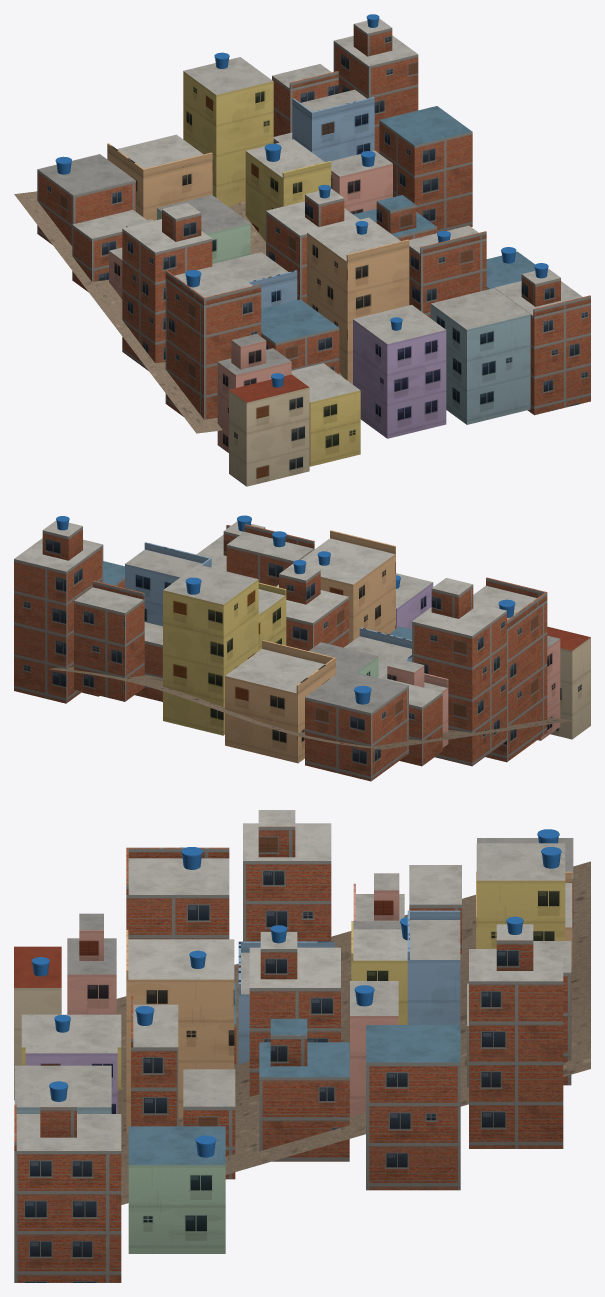
File: favela-quarteirao-colorido.glb
3 renders of one model, top to bottom at view 1: azimuth 30°, elevation 25°; view 2: azimuth 150°, elevation 25°; view 3: azimuth 270°, elevation 25°, orthographic. The views are drawn at different scales.
Parts seen in each view (by area): view 1: favela-quarteirao-colorido; view 2: favela-quarteirao-colorido; view 3: favela-quarteirao-colorido.
Part boxes in pixels (x1,y1,x2,y2): favela-quarteirao-colorido: (14, 14, 590, 486); favela-quarteirao-colorido: (14, 515, 590, 781); favela-quarteirao-colorido: (14, 810, 590, 1282).
Bounding box in the file's own units: 37.93 × 24.82 × 37.76.
5 materials, 4 textured.
